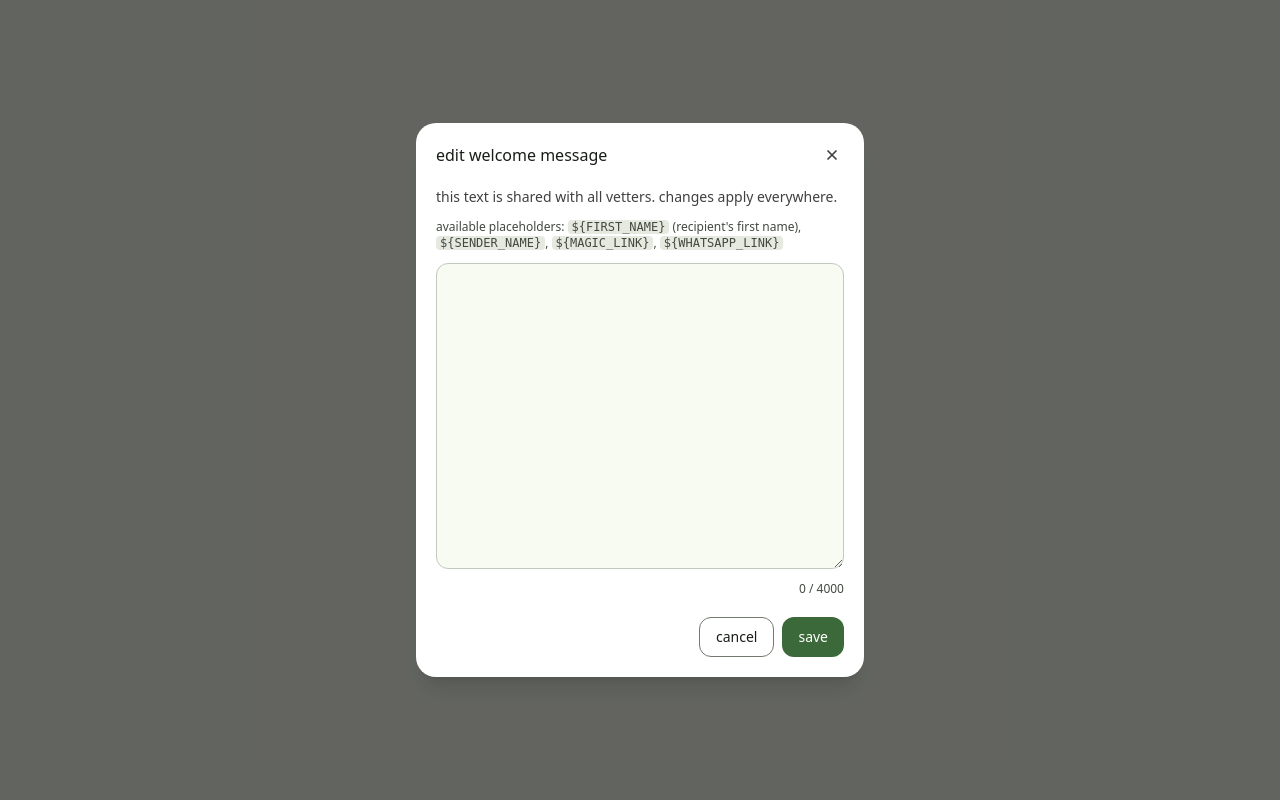
Test: WelcomeTemplateEditorDialog › blocks save when body is empty
This screenshot has width=1280, height=800.
Click the button "save": [813, 637] box x1=782 y1=617 x2=844 y2=657
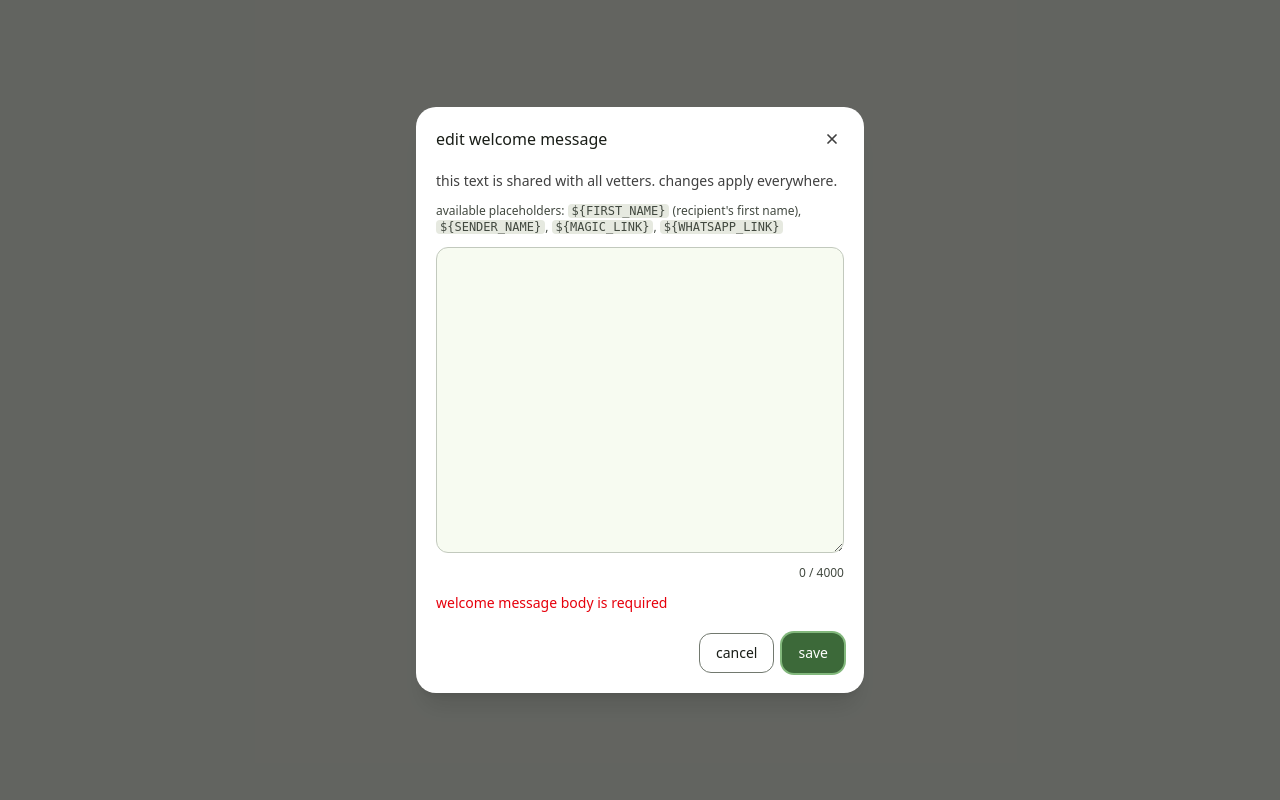
Expected: the message reads "welcome message body is required", x1=436 y1=593 x2=667 y2=612
